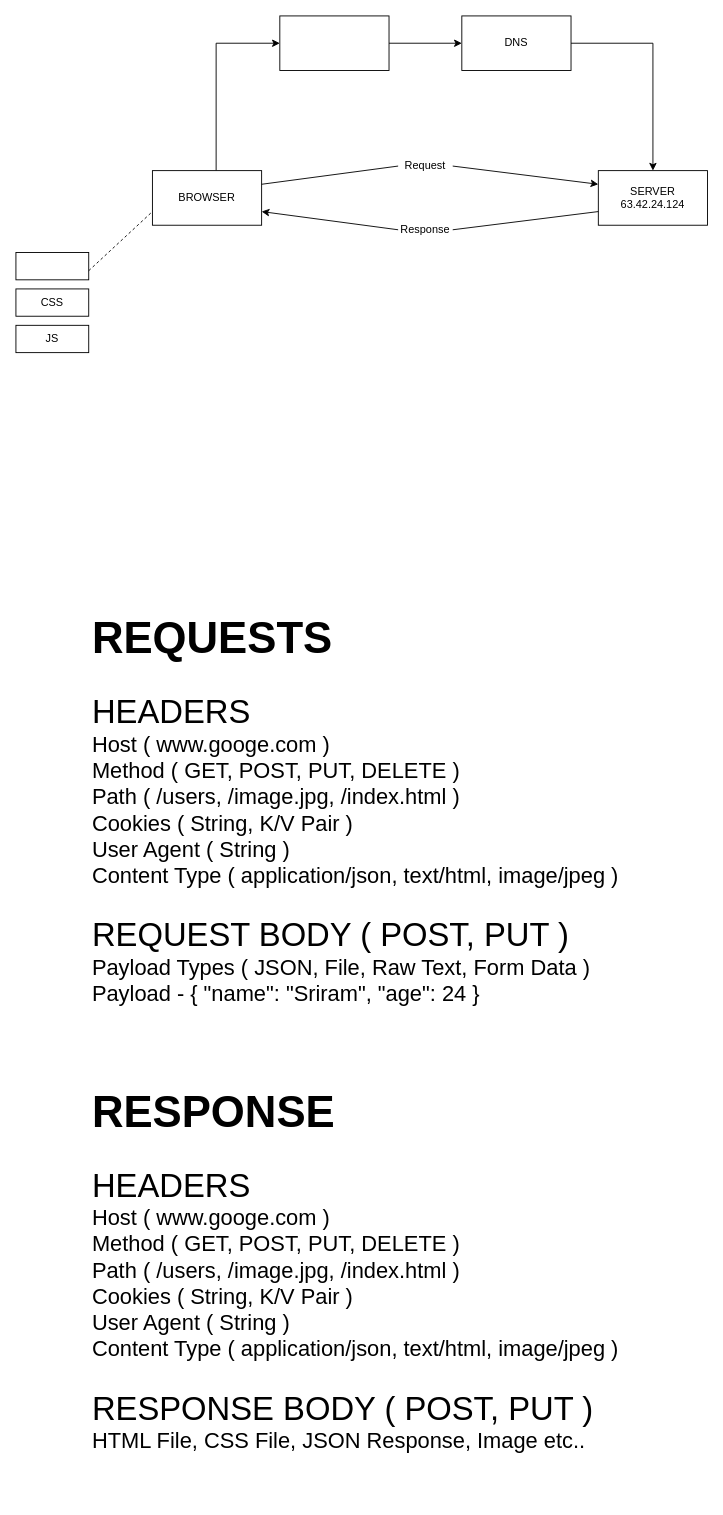
This 723x1515 diagram has some shape labels left out. The centre of each missing label's shape, as x and y in pixels:
HTML: point 52,266
ISP: point 334,43
